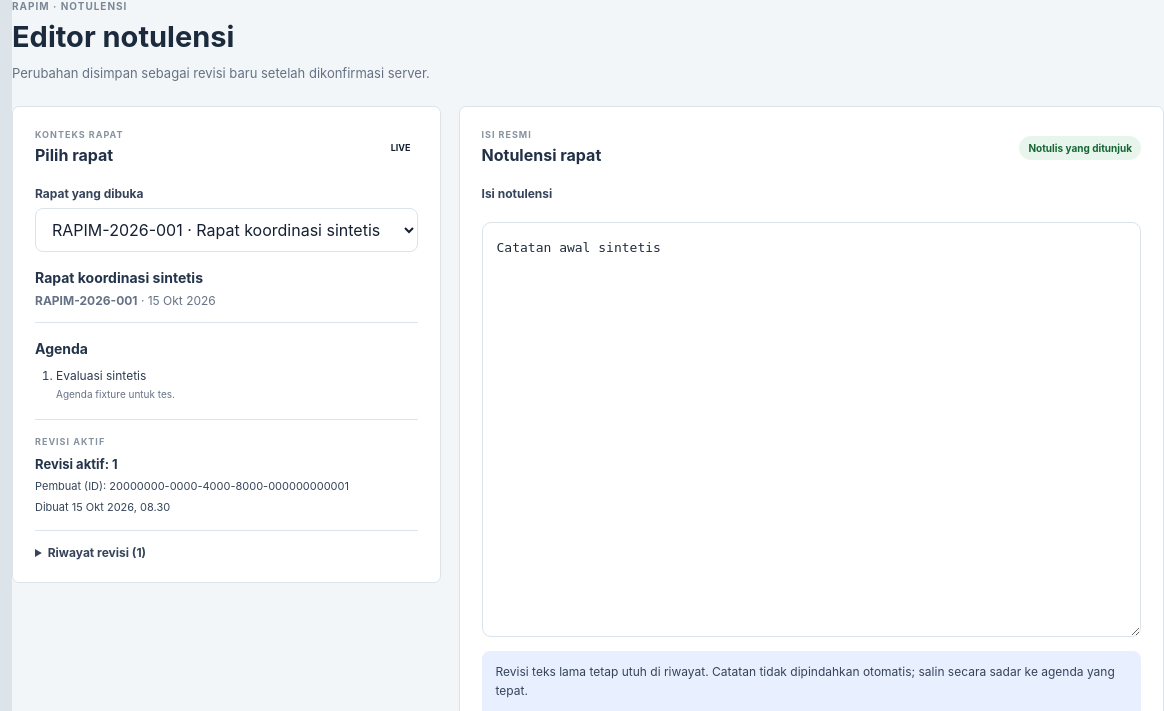
Scenario: MinutesEditor › saves with the active base revision and uses the server response without duplicate submission
Replace the text in the text box labelled "Isi notulensi" with "Notulen diperbarui secara eksplisit" at (811, 429), box left=482, top=222, right=1141, bottom=637
(page scrolled)
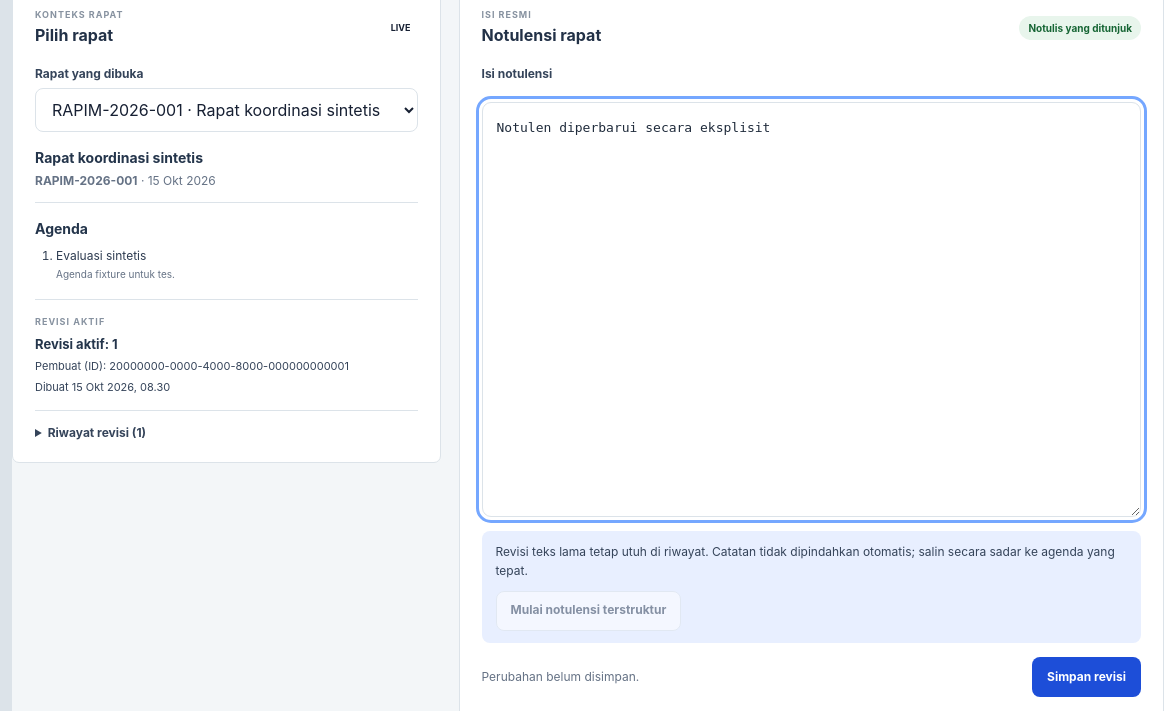
Click the button "Simpan revisi".
click(1086, 677)  # box left=1032, top=657, right=1141, bottom=697
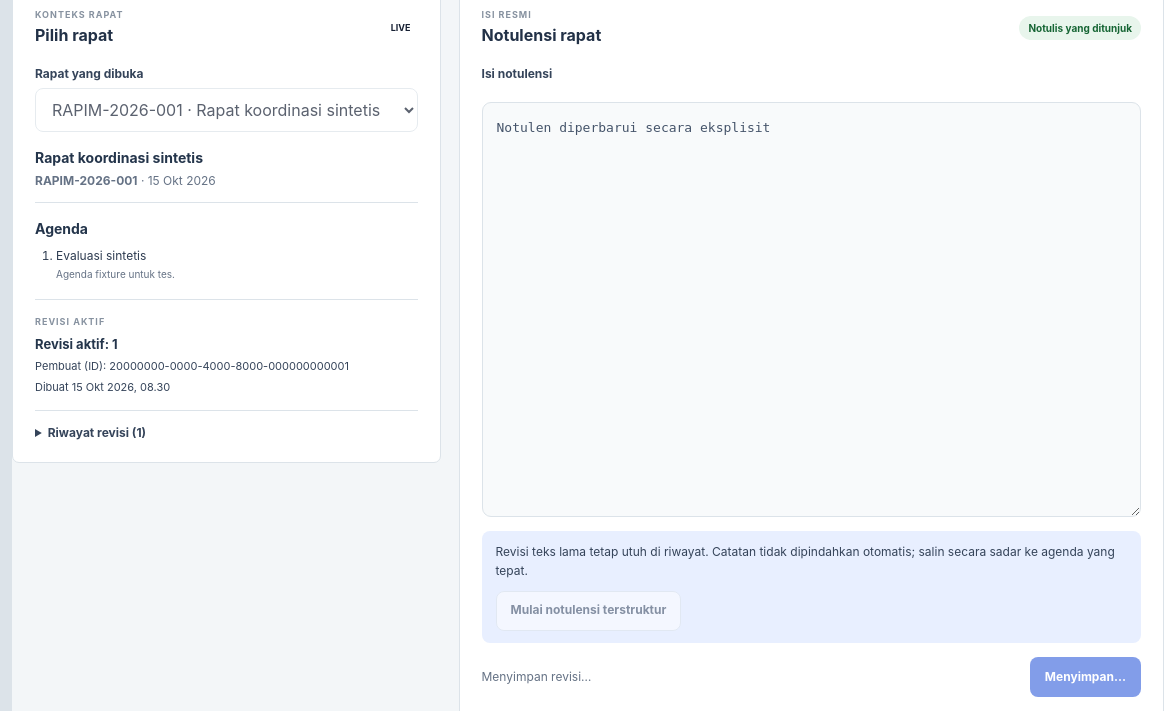
Check: the button named "Simpan revisi" is disabled
Click the button named "Simpan revisi".
click(1085, 677)  # box left=1030, top=657, right=1141, bottom=697
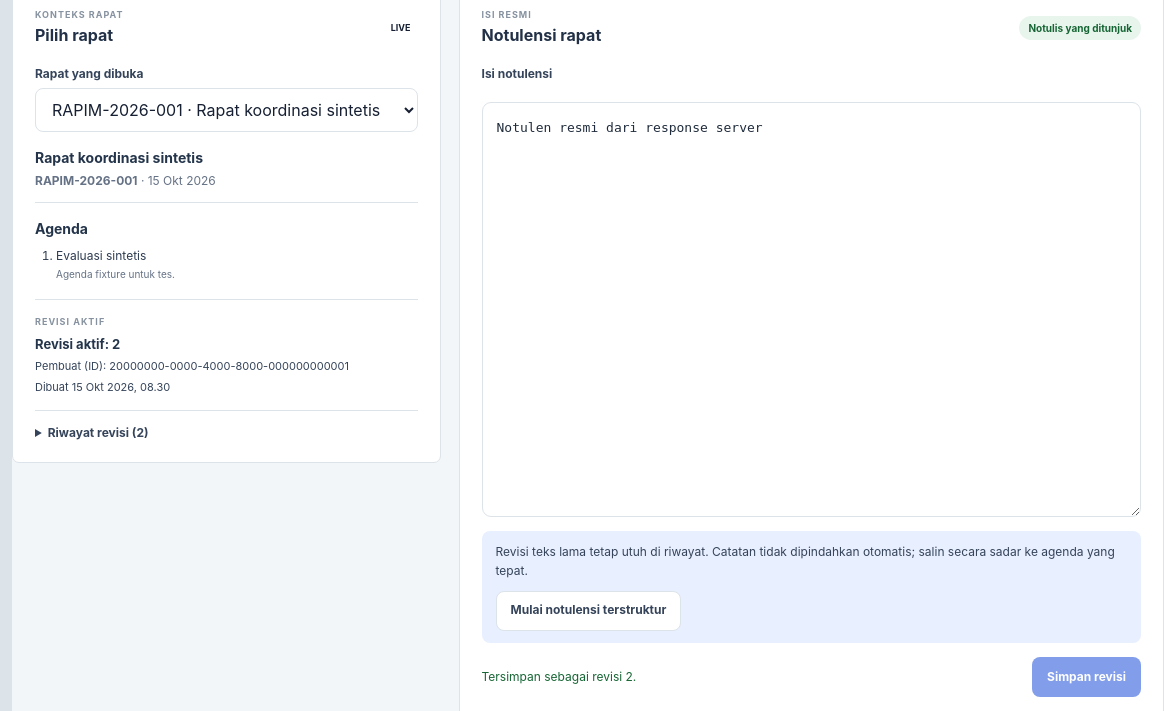
Check: the text "Tersimpan sebagai revisi 2." is shown, box left=482, top=669, right=636, bottom=684
Check: the text box labelled "Isi notulensi" holds "Notulen resmi dari response server", box left=482, top=102, right=1141, bottom=517
